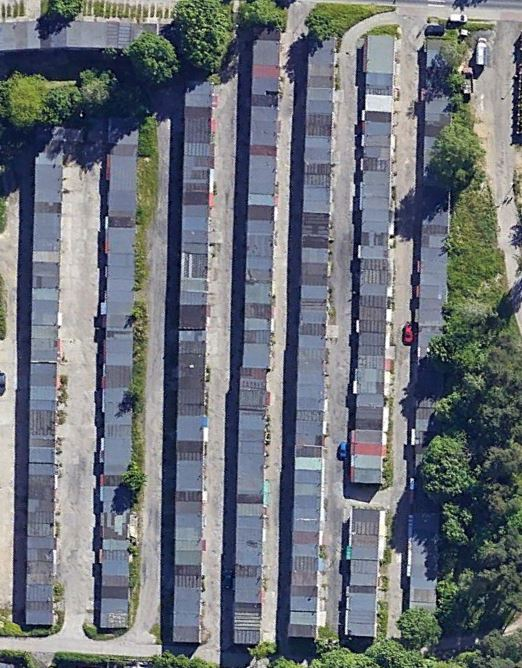garage: (279, 32, 340, 646), (339, 29, 399, 643), (229, 20, 283, 651), (405, 33, 461, 618), (168, 71, 220, 643), (92, 111, 147, 635), (23, 118, 66, 627), (1, 11, 165, 62)
